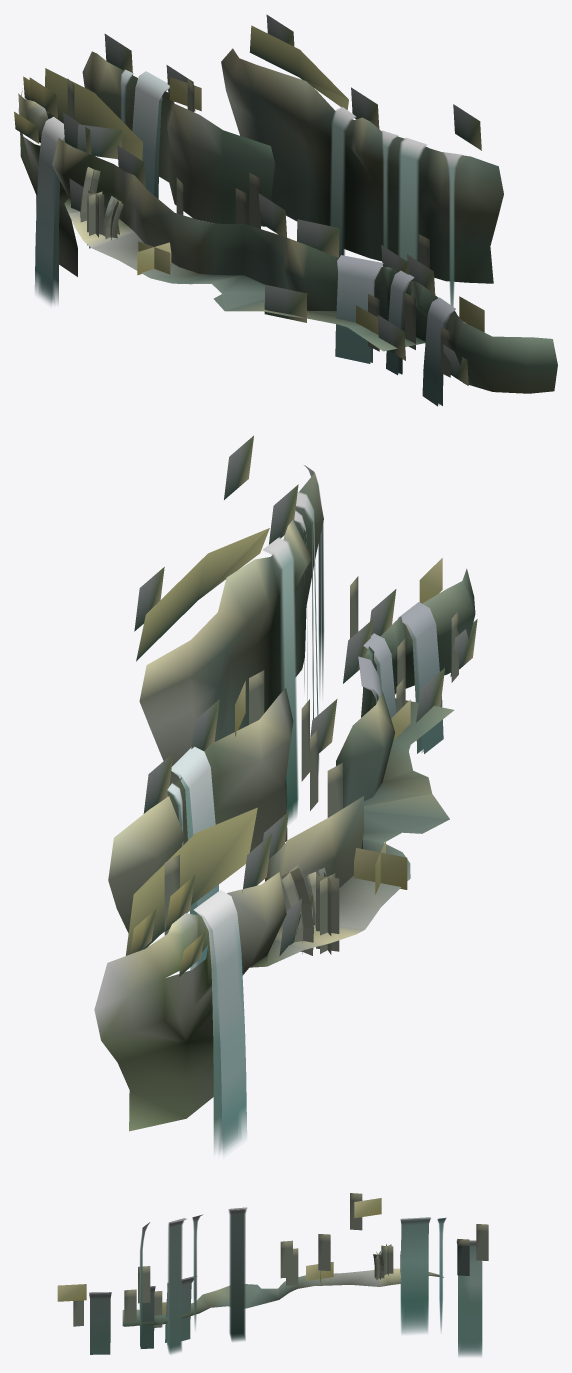
The model's file is 09Scenery.gltf.
The picture shows the model from 3 angles, top to bottom: view 1: azimuth 30°, elevation 25°; view 2: azimuth 150°, elevation 25°; view 3: azimuth 270°, elevation 25°; orthographic projection. The views are drawn at different scales.
Parts seen in each view (by area): view 1: stg020_o20_Mesh_8.001, stg020_falls_w_20_Mesh_0000.001, stg020_p20_Mesh_27.001, stg020_o20_Mesh_28.001, stg020_p20_Mesh_6, stg020_p20_Mesh_38.001, stg020_p20_Mesh_42.001, stg020_p20_Mesh_0.002, stg020_p20_Mesh_0.001; view 2: stg020_o20_Mesh_8.001, stg020_falls_w_20_Mesh_0000.001, stg020_p20_Mesh_27.001, stg020_p20_Mesh_6, stg020_o20_Mesh_28.001, stg020_p20_Mesh_38.001, stg020_p20_Mesh_42.001, stg020_p20_Mesh_0.002, stg020_p20_Mesh_0.001; view 3: stg020_falls_w_20_Mesh_0000.001, stg020_p20_Mesh_38.001, stg020_o20_Mesh_28.001, stg020_p20_Mesh_42.001, stg020_p20_Mesh_0.001, stg020_p20_Mesh_0.002.
Part boxes in pixels (x1,y1,x2,y2): stg020_o20_Mesh_8.001: (18,48,557,393); stg020_falls_w_20_Mesh_0000.001: (35,69,462,406); stg020_p20_Mesh_27.001: (14,14,481,385); stg020_o20_Mesh_28.001: (64,198,425,351); stg020_p20_Mesh_6: (45,25,348,160); stg020_p20_Mesh_38.001: (67,88,450,377); stg020_p20_Mesh_42.001: (67,78,450,339); stg020_p20_Mesh_0.002: (137,241,378,334); stg020_p20_Mesh_0.001: (169,77,484,332); stg020_o20_Mesh_8.001: (94,473,475,1131); stg020_falls_w_20_Mesh_0000.001: (167,465,443,1154); stg020_p20_Mesh_27.001: (130,435,477,976); stg020_p20_Mesh_6: (125,528,269,955); stg020_o20_Mesh_28.001: (250,698,454,967); stg020_p20_Mesh_38.001: (164,590,458,955); stg020_p20_Mesh_42.001: (164,576,458,895); stg020_p20_Mesh_0.002: (354,699,410,894); stg020_p20_Mesh_0.001: (235,558,442,736); stg020_falls_w_20_Mesh_0000.001: (89,1207,482,1356); stg020_p20_Mesh_38.001: (73,1200,488,1327); stg020_o20_Mesh_28.001: (122,1268,443,1326); stg020_p20_Mesh_42.001: (124,1193,488,1298); stg020_p20_Mesh_0.001: (57,1198,381,1301); stg020_p20_Mesh_0.002: (162,1262,333,1314).
Bounding box in the file's own units: 71.72 × 89.52 × 203.
